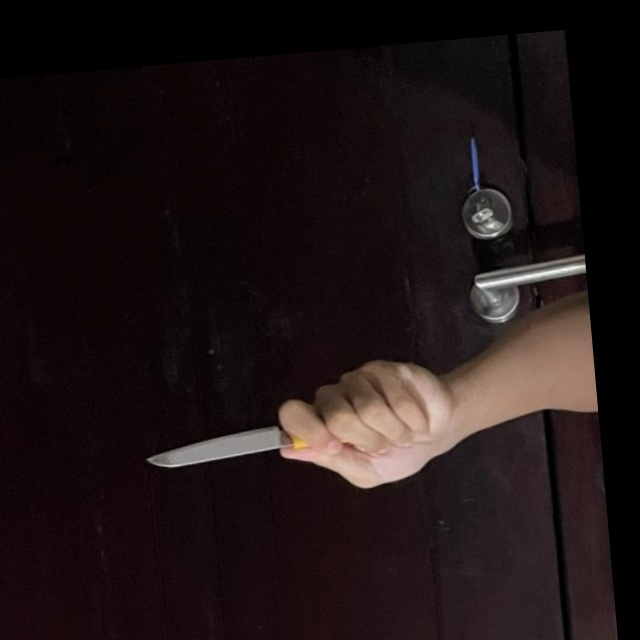Sharp-Object: (142, 415, 352, 473)
